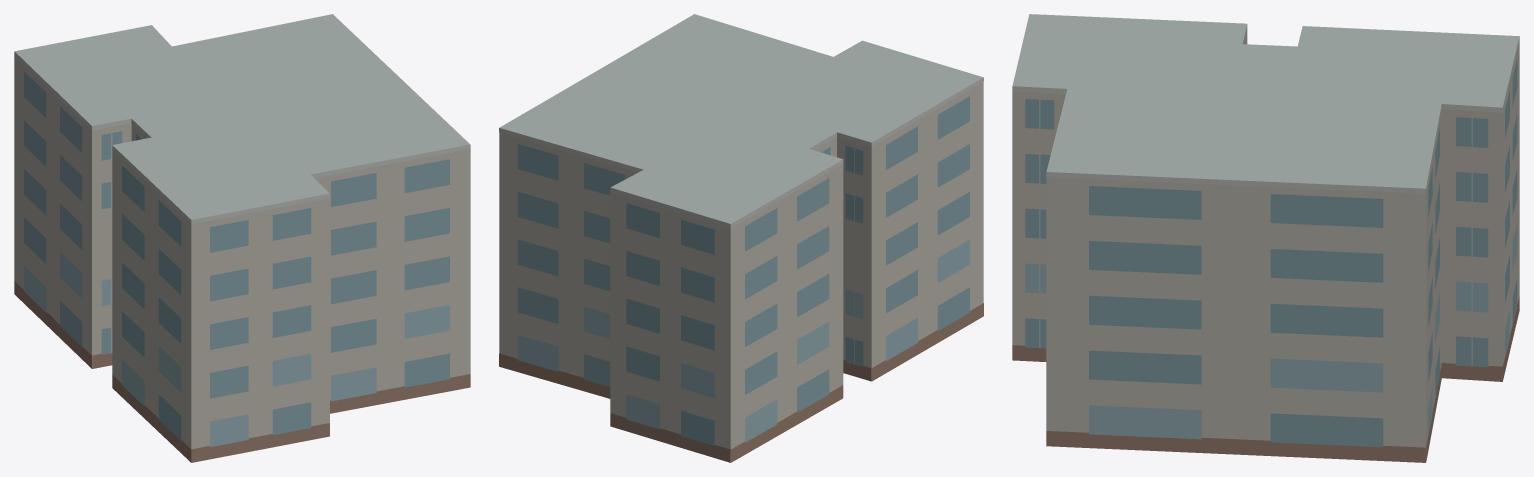
The model's file is survey-upis-32669139.glb.
The picture shows the model from 3 angles, left to right: view 1: azimuth 30°, elevation 25°; view 2: azimuth 150°, elevation 25°; view 3: azimuth 270°, elevation 25°; orthographic projection. The views are drawn at different scales.
Visible parts, largest first — view 1: survey-upis-32669139.tmp; view 2: survey-upis-32669139.tmp; view 3: survey-upis-32669139.tmp.
Boxes of the visible parts, box(x1,y1,x2,y2) form: survey-upis-32669139.tmp: box(14, 14, 470, 462); survey-upis-32669139.tmp: box(499, 14, 983, 462); survey-upis-32669139.tmp: box(1012, 14, 1519, 462).
Size of the model in its own units: 17.9 by 13.1 by 21.97.
